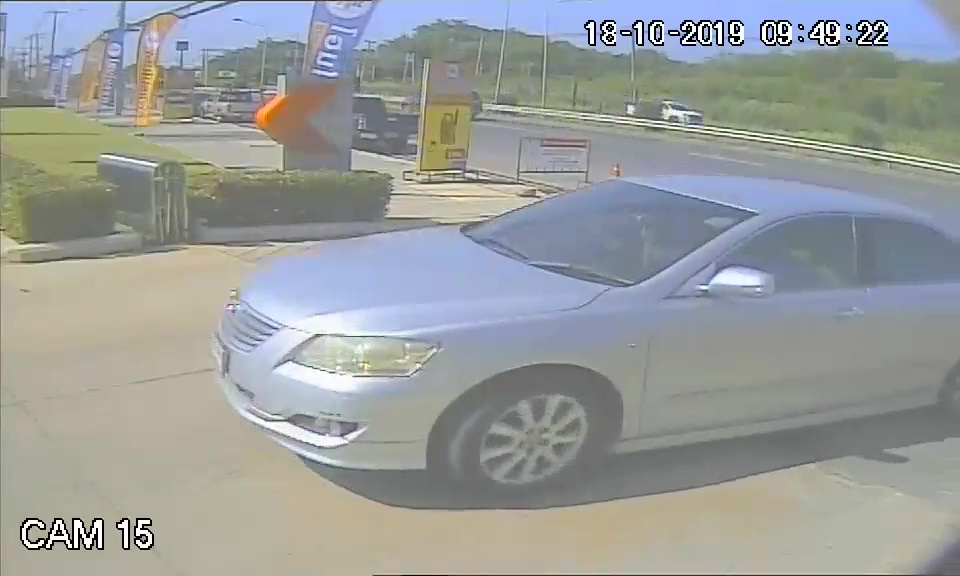sedan: (207, 171, 960, 490)
